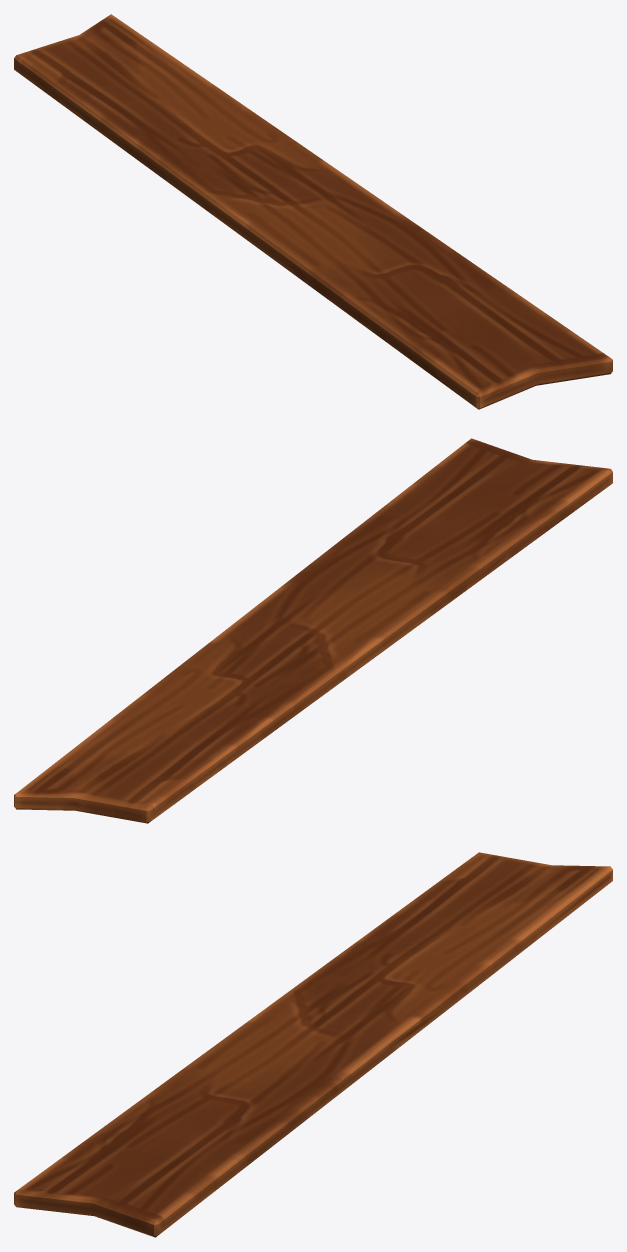
The model's file is Tabla2.fbx.
3 views of the same model, one above another, from view 1: azimuth 30°, elevation 25°; view 2: azimuth 150°, elevation 25°; view 3: azimuth 330°, elevation 25° (orthographic).
Visible parts, largest first — view 1: 2_Tabla_Original; view 2: 2_Tabla_Original; view 3: 2_Tabla_Original.
Part boxes in pixels (x1=…): 2_Tabla_Original: x1=14, y1=14, x2=612, y2=409; 2_Tabla_Original: x1=14, y1=438, x2=612, y2=823; 2_Tabla_Original: x1=14, y1=852, x2=612, y2=1237.
Bounding box in the file's own units: 35.98 × 4 × 215.
